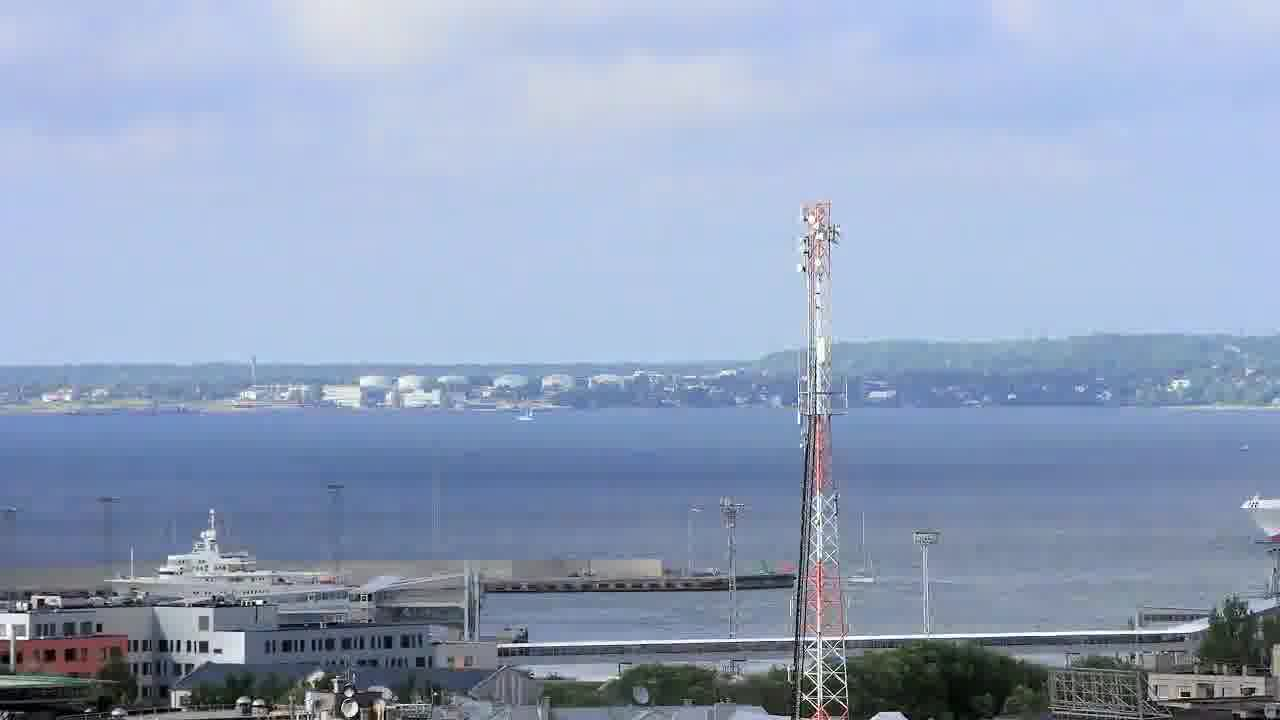type-0: (838, 544, 881, 595)
type-3: (96, 508, 381, 605)
